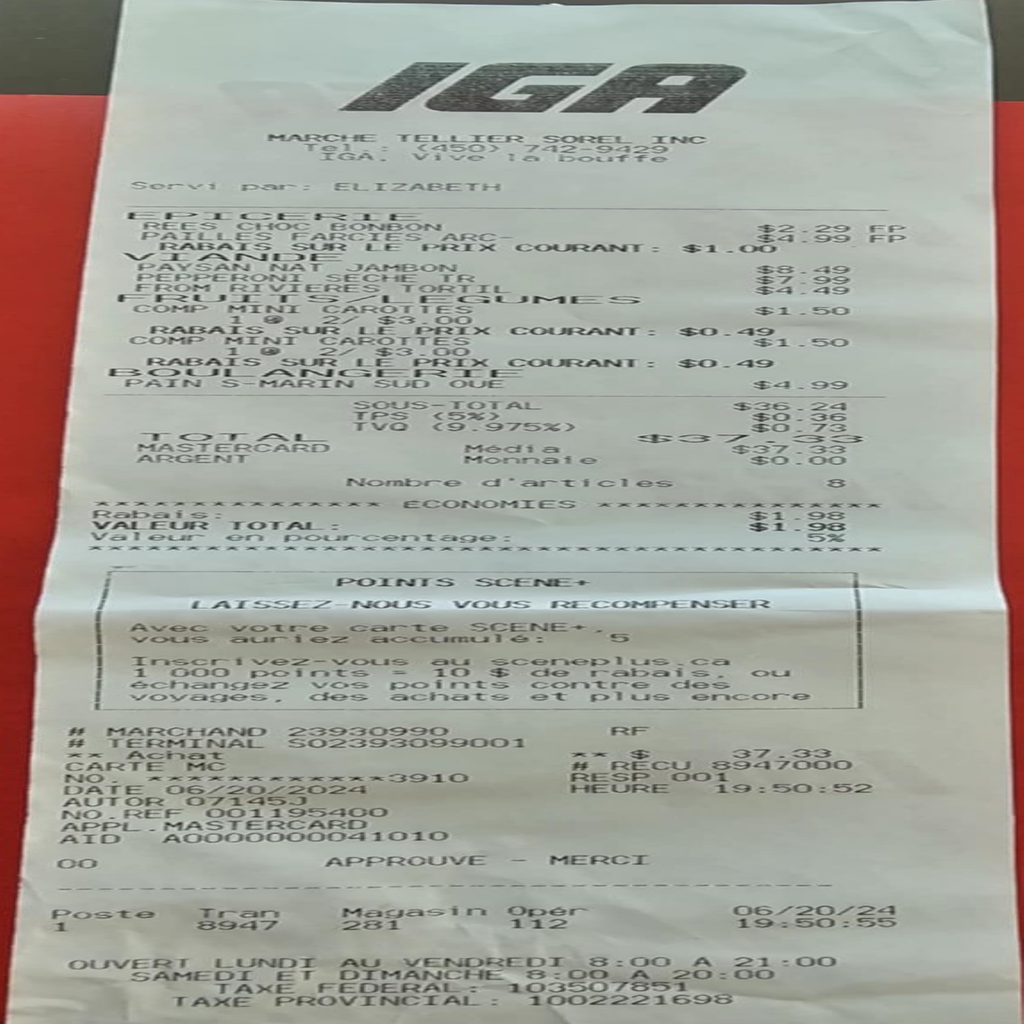recipt: (6, 0, 1022, 1018)
